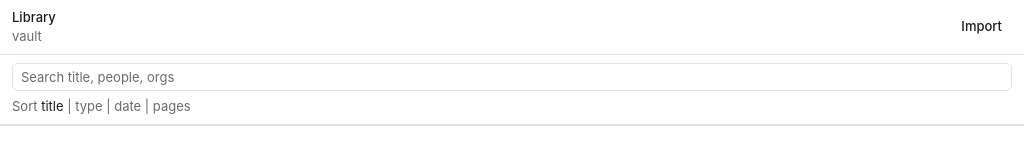
Test: LibraryPanel › shows rejected import error with role alert
This screenshot has width=1024, height=167.
Click the button "Import": click(982, 27) [951,13,1012,41]
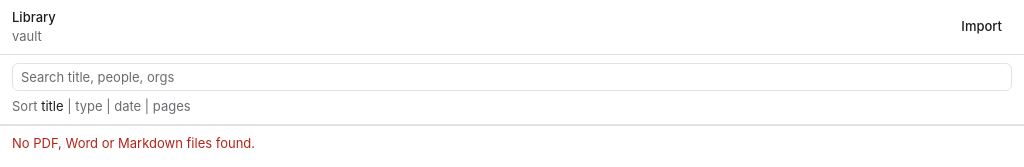
Check: the message reads "No PDF, Word or Markdown files found.", box [12,134,255,150]
